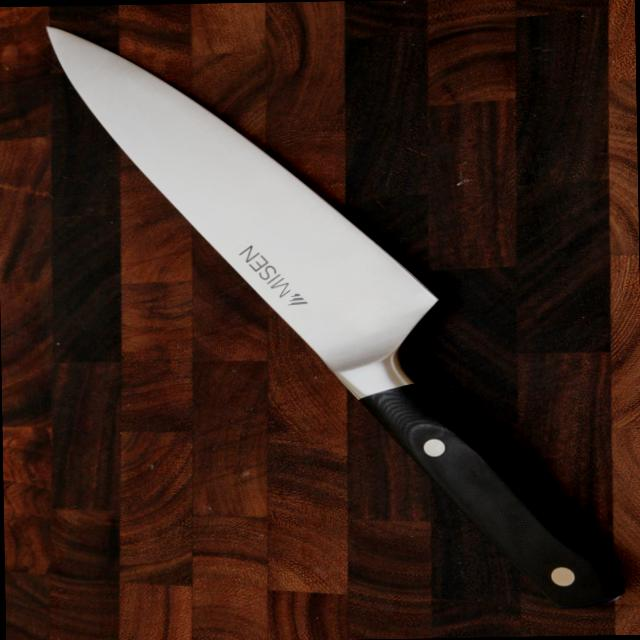knife: (35, 11, 450, 406)
